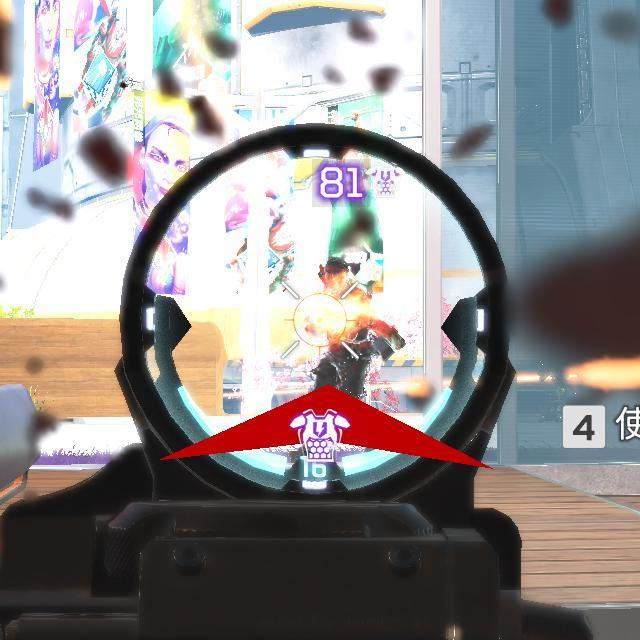avatar: (309, 253, 375, 401)
